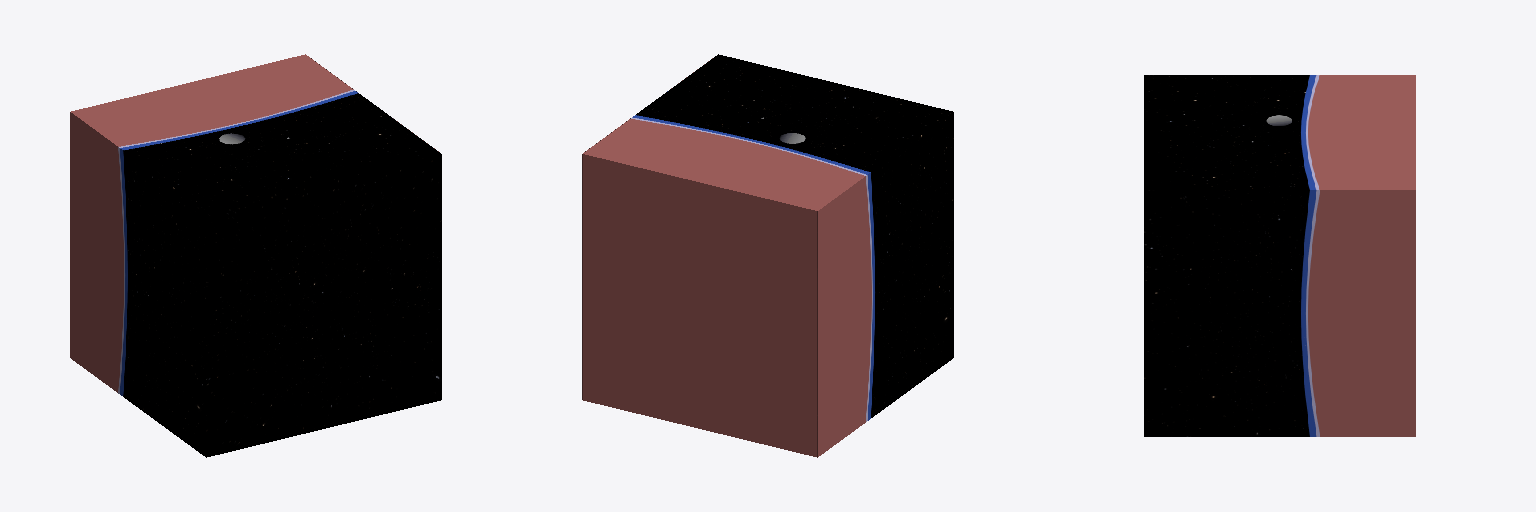
The picture shows the model from 3 angles: view 1: azimuth 30°, elevation 25°; view 2: azimuth 150°, elevation 25°; view 3: azimuth 270°, elevation 25°; orthographic projection.
Visible parts, largest first — view 1: Cube; view 2: Cube; view 3: Cube.
Boxes of the visible parts, <box> form: Cube: <box>70,54,441,457</box>; Cube: <box>582,54,953,457</box>; Cube: <box>1144,75,1415,436</box>.
Size of the model in its own units: 200 by 200 by 200.
Materials: 1 (1 with a texture image).